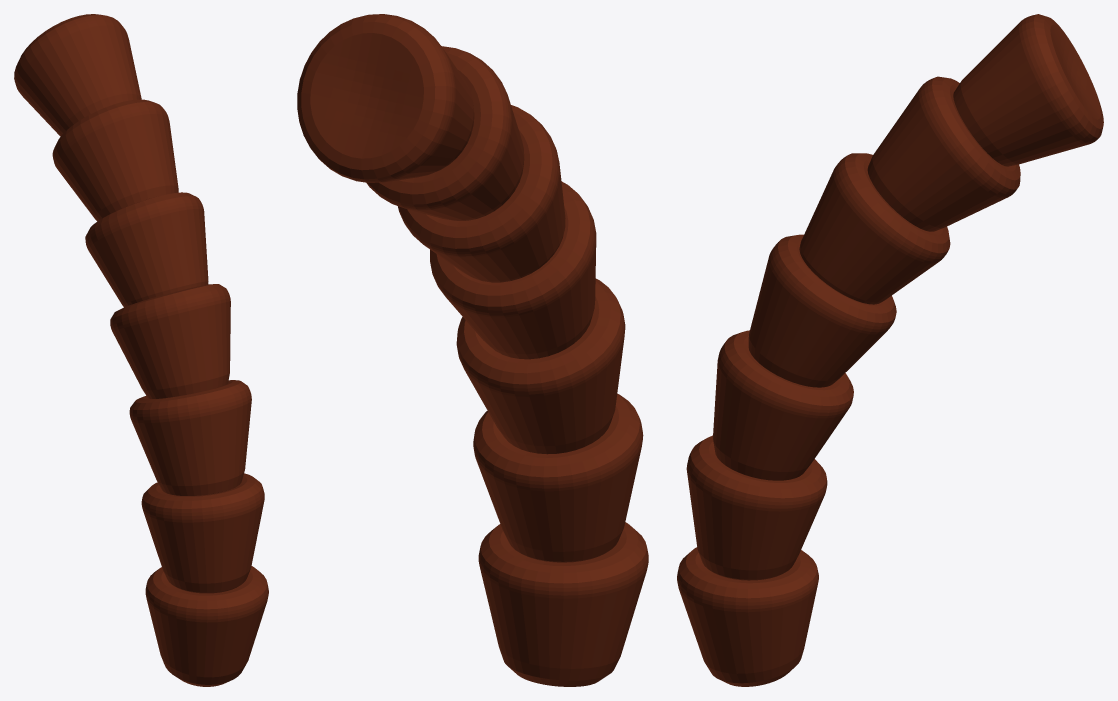
Rendered from Tronco_45_L.obj.
3 views of the same model, side by side, from view 1: azimuth 30°, elevation 25°; view 2: azimuth 150°, elevation 25°; view 3: azimuth 270°, elevation 25° (orthographic). The views are drawn at different scales.
Visible parts, largest first — view 1: Cylinder.020_Cylinder.015; view 2: Cylinder.020_Cylinder.015; view 3: Cylinder.020_Cylinder.015.
Part boxes in pixels (left/top/right/bottom): Cylinder.020_Cylinder.015: left=14, top=14, right=268, bottom=686; Cylinder.020_Cylinder.015: left=297, top=14, right=648, bottom=686; Cylinder.020_Cylinder.015: left=677, top=14, right=1103, bottom=686.
Size of the model in its own units: 10.74 by 54.79 by 32.29.
